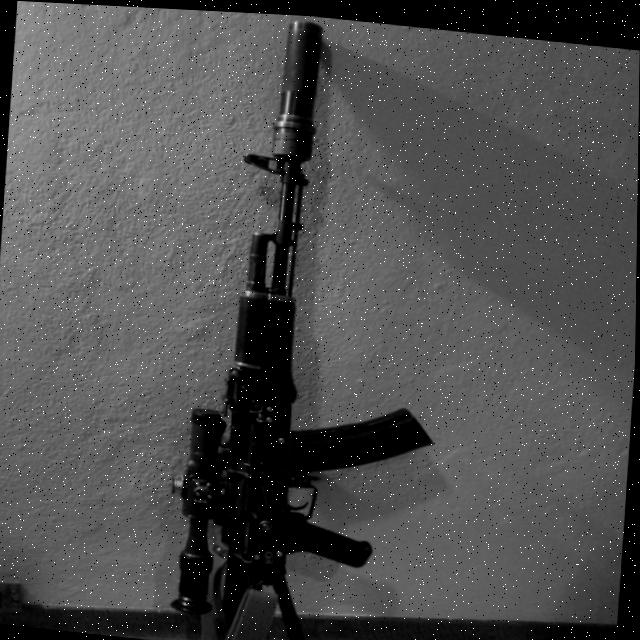firearm: (155, 7, 459, 640)
